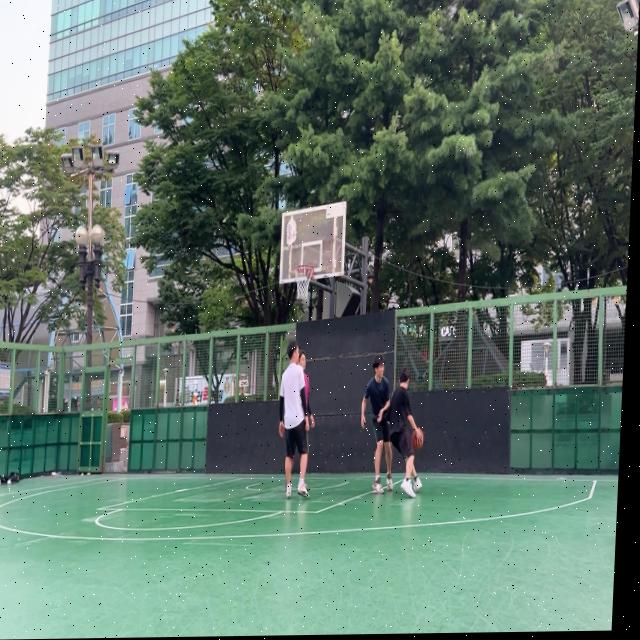basketball: (411, 427, 424, 449)
hoop: (292, 264, 314, 301)
